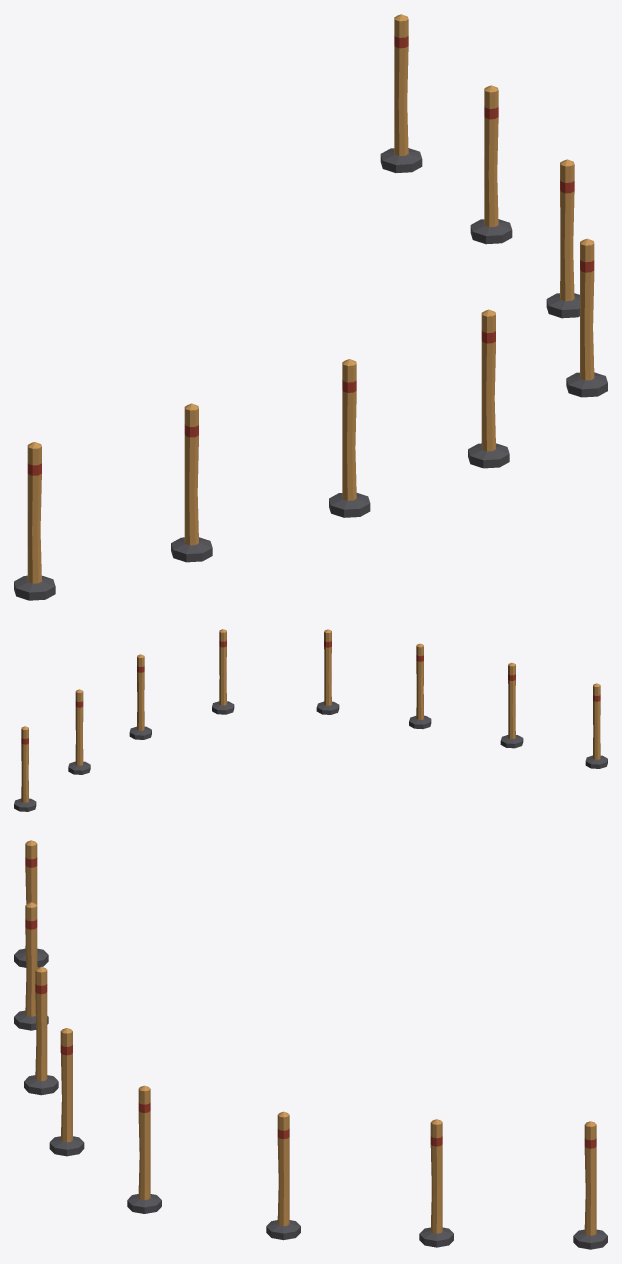
The model's file is SidewalkBarrier.glb.
3 renders of one model, top to bottom at view 1: azimuth 30°, elevation 25°; view 2: azimuth 150°, elevation 25°; view 3: azimuth 270°, elevation 25°, orthographic. The views are drawn at different scales.
Parts seen in each view (by area): view 1: SM_Prop_Sidewalk_Barrier_01__15_, SM_Prop_Sidewalk_Barrier_01__18_, SM_Prop_Sidewalk_Barrier_01__19_, SM_Prop_Sidewalk_Barrier_01__16_, SM_Prop_Sidewalk_Barrier_01__12_, SM_Prop_Sidewalk_Barrier_01__17_, SM_Prop_Sidewalk_Barrier_01__14_, SM_Prop_Sidewalk_Barrier_01__13_; view 2: SM_Prop_Sidewalk_Barrier_01__12_, SM_Prop_Sidewalk_Barrier_01__18_, SM_Prop_Sidewalk_Barrier_01__15_, SM_Prop_Sidewalk_Barrier_01__13_, SM_Prop_Sidewalk_Barrier_01__14_, SM_Prop_Sidewalk_Barrier_01__17_, SM_Prop_Sidewalk_Barrier_01__19_, SM_Prop_Sidewalk_Barrier_01__16_; view 3: SM_Prop_Sidewalk_Barrier_01__16_, SM_Prop_Sidewalk_Barrier_01__14_, SM_Prop_Sidewalk_Barrier_01__17_, SM_Prop_Sidewalk_Barrier_01__13_, SM_Prop_Sidewalk_Barrier_01__12_, SM_Prop_Sidewalk_Barrier_01__15_, SM_Prop_Sidewalk_Barrier_01__18_, SM_Prop_Sidewalk_Barrier_01__19_.
Boxes of the visible parts, x1,y1,x2,y2 form: SM_Prop_Sidewalk_Barrier_01__15_: (468, 309, 509, 468); SM_Prop_Sidewalk_Barrier_01__18_: (171, 403, 212, 562); SM_Prop_Sidewalk_Barrier_01__19_: (14, 442, 55, 600); SM_Prop_Sidewalk_Barrier_01__16_: (329, 359, 370, 517); SM_Prop_Sidewalk_Barrier_01__12_: (470, 85, 512, 244); SM_Prop_Sidewalk_Barrier_01__17_: (380, 14, 422, 172); SM_Prop_Sidewalk_Barrier_01__14_: (566, 238, 607, 397); SM_Prop_Sidewalk_Barrier_01__13_: (546, 159, 579, 318); SM_Prop_Sidewalk_Barrier_01__12_: (68, 689, 90, 774); SM_Prop_Sidewalk_Barrier_01__18_: (500, 662, 523, 748); SM_Prop_Sidewalk_Barrier_01__15_: (316, 629, 339, 714); SM_Prop_Sidewalk_Barrier_01__13_: (129, 654, 151, 739); SM_Prop_Sidewalk_Barrier_01__14_: (212, 629, 234, 714); SM_Prop_Sidewalk_Barrier_01__17_: (14, 726, 36, 811); SM_Prop_Sidewalk_Barrier_01__19_: (585, 683, 607, 768); SM_Prop_Sidewalk_Barrier_01__16_: (409, 643, 431, 729); SM_Prop_Sidewalk_Barrier_01__16_: (24, 966, 58, 1095); SM_Prop_Sidewalk_Barrier_01__14_: (127, 1085, 161, 1213); SM_Prop_Sidewalk_Barrier_01__17_: (573, 1121, 607, 1249); SM_Prop_Sidewalk_Barrier_01__13_: (266, 1111, 300, 1240); SM_Prop_Sidewalk_Barrier_01__12_: (419, 1119, 453, 1247); SM_Prop_Sidewalk_Barrier_01__15_: (49, 1028, 84, 1156); SM_Prop_Sidewalk_Barrier_01__18_: (14, 902, 48, 1030); SM_Prop_Sidewalk_Barrier_01__19_: (14, 840, 48, 967).
Bounding box in the file's own units: 6.3 × 1.21 × 5.35.
Materials: 1 (1 with a texture image).
